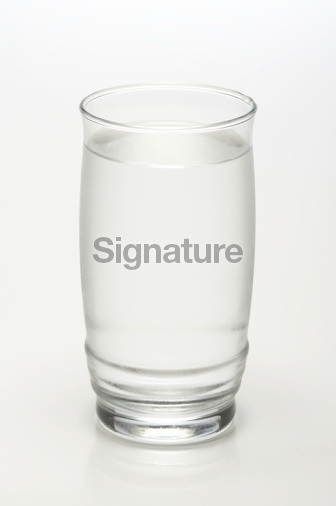glass of water: (78, 93, 253, 441)
